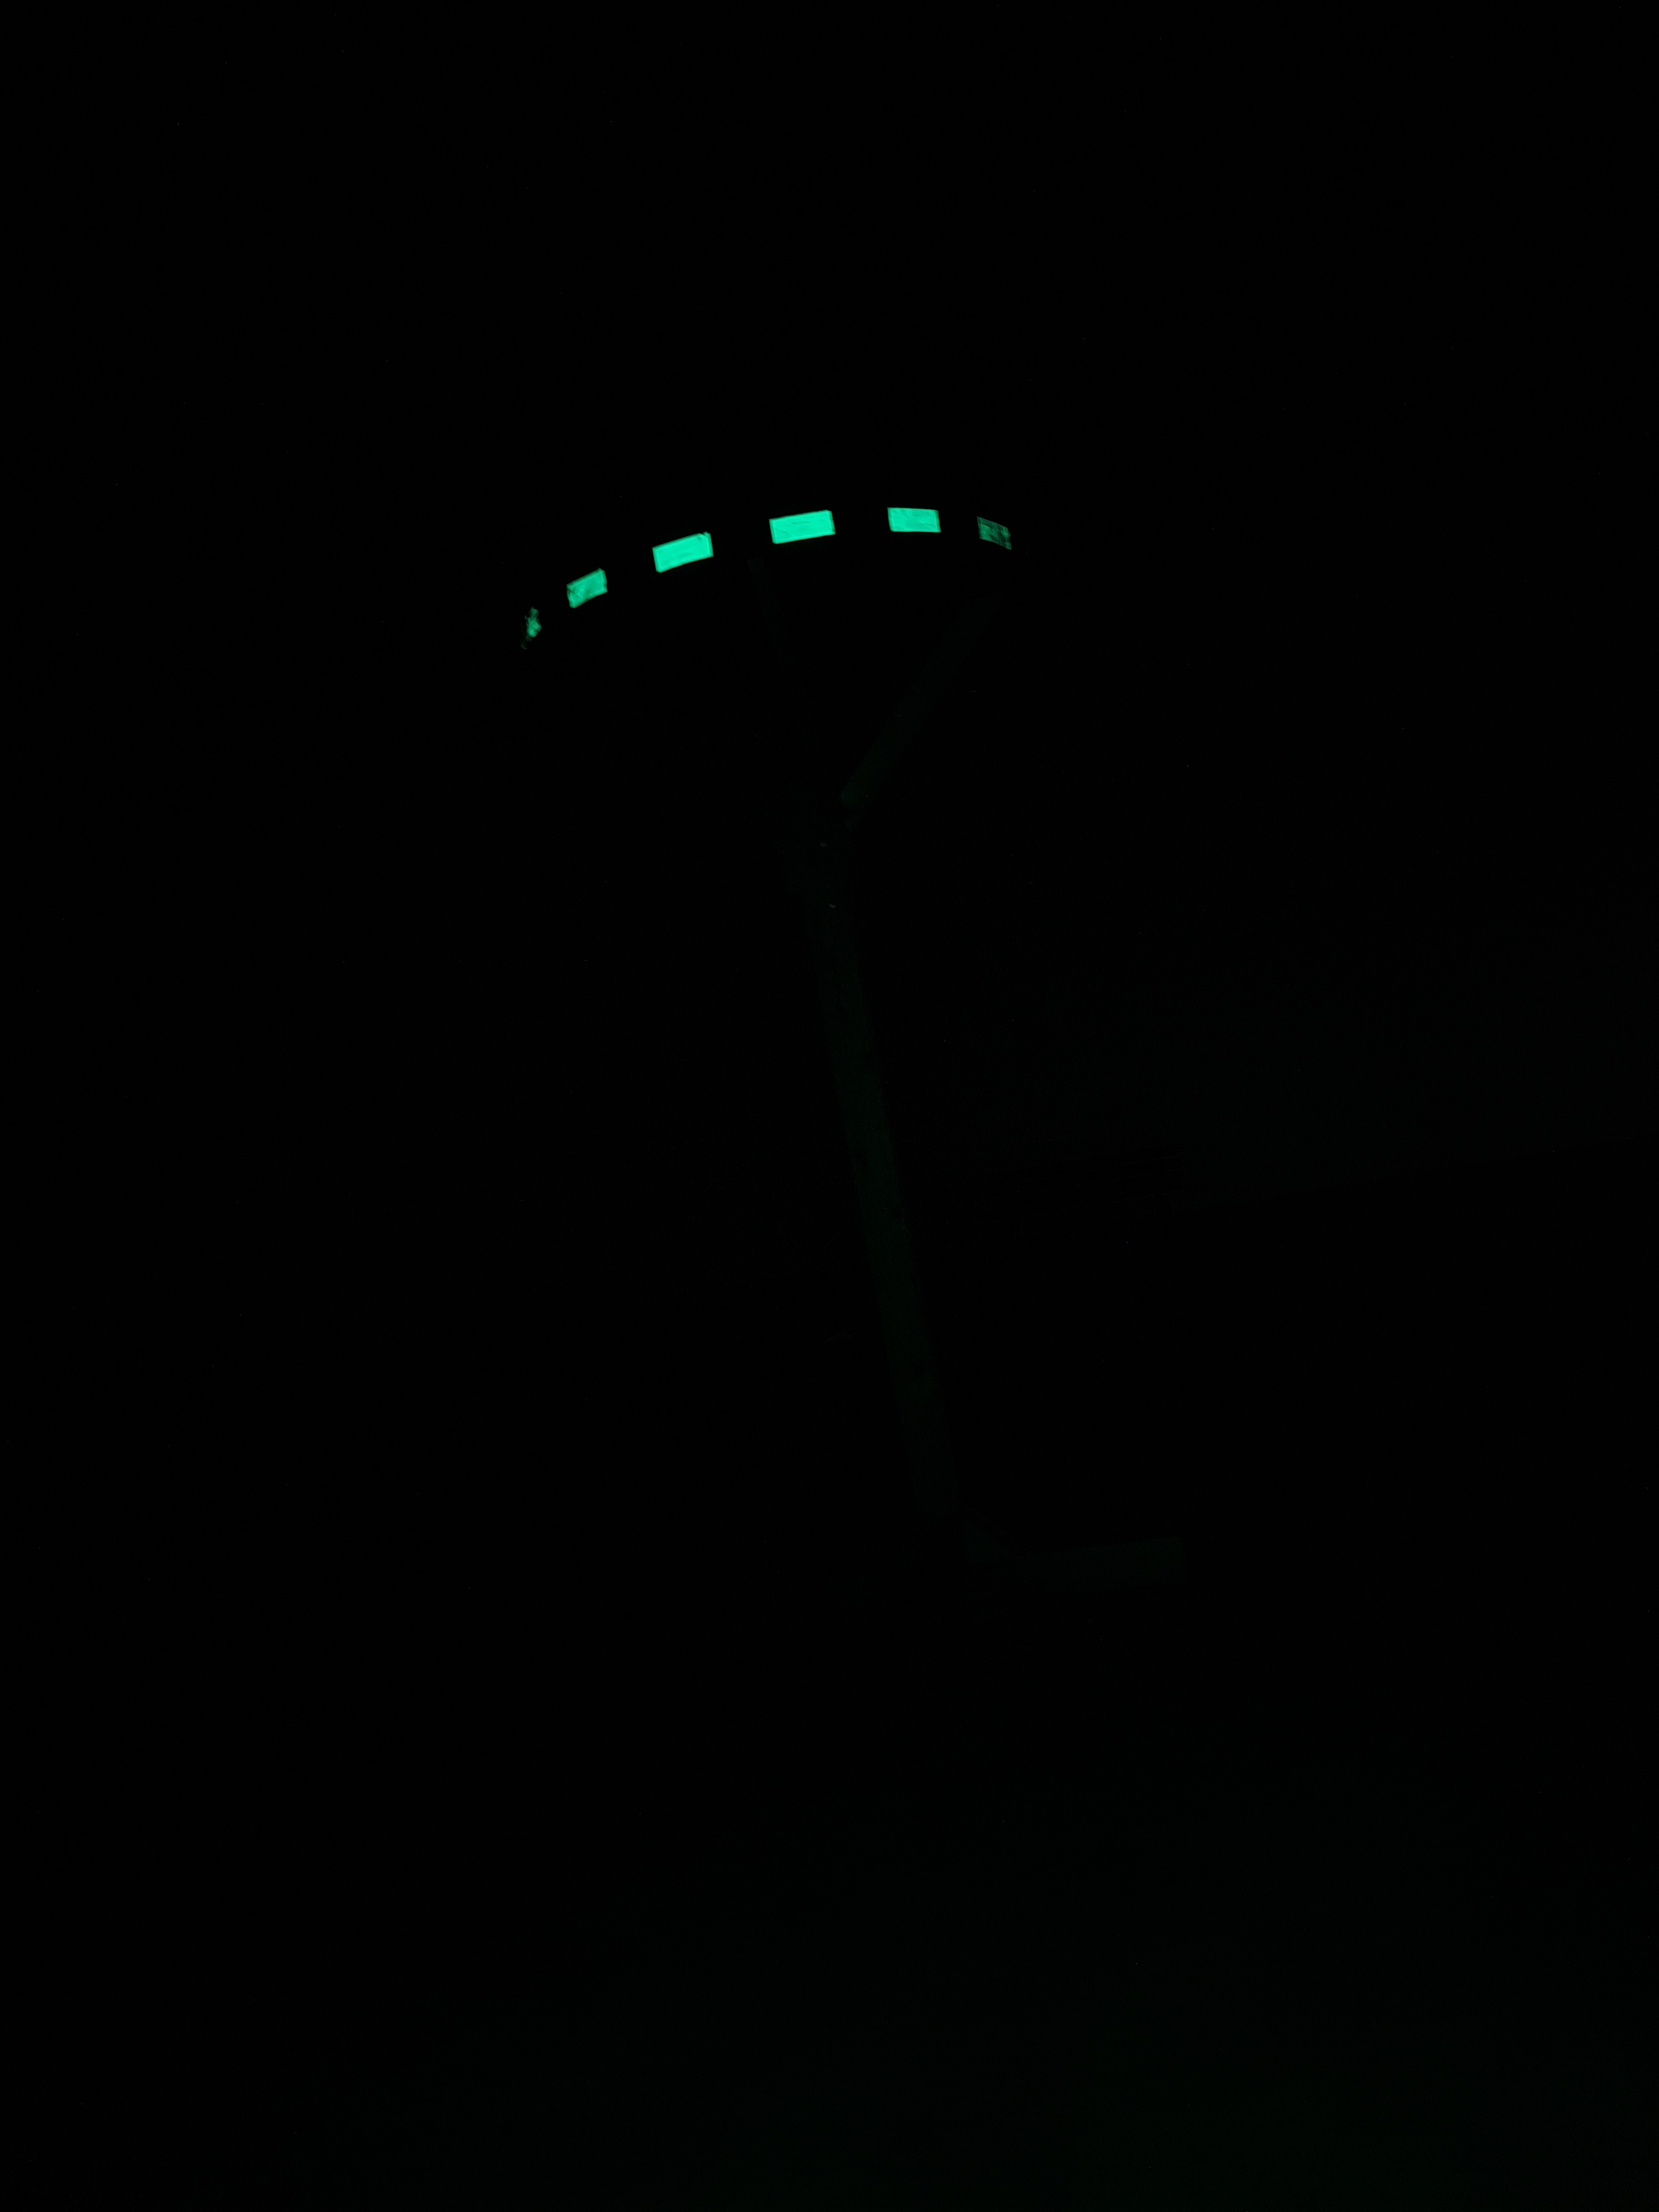hoop: (521, 502, 1016, 648)
